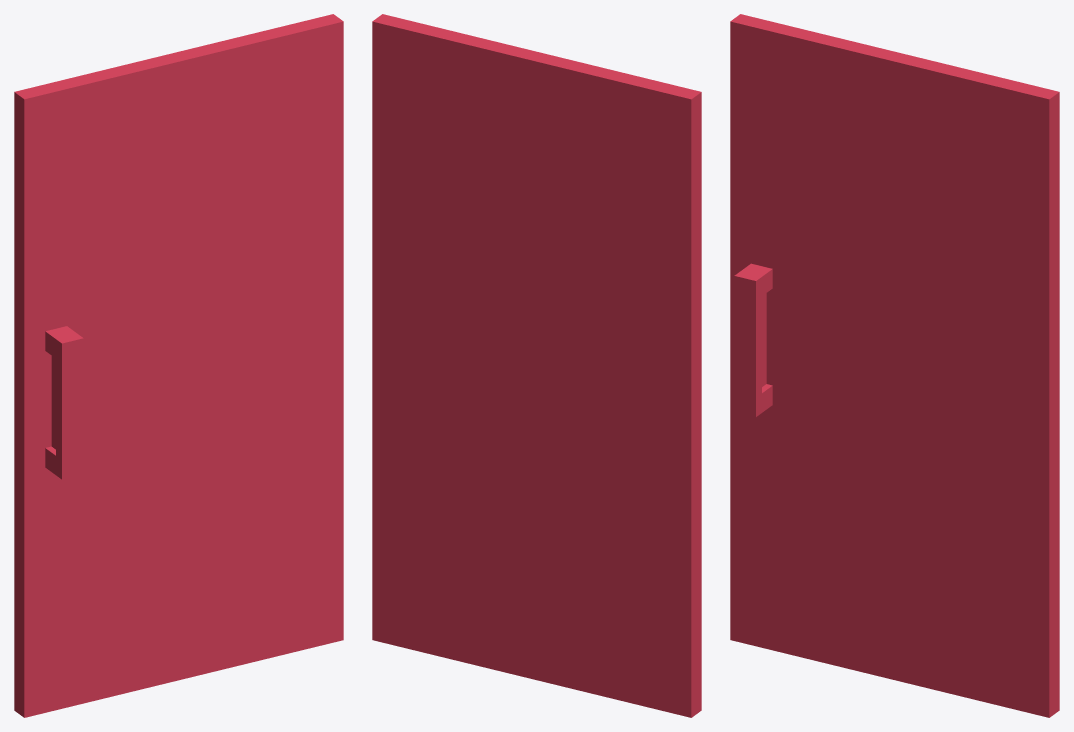
Rendered from Itr_Shelf1_Door_Right_04.FBX.
The picture shows the model from 3 angles, left to right: view 1: azimuth 30°, elevation 25°; view 2: azimuth 150°, elevation 25°; view 3: azimuth 330°, elevation 25°; orthographic projection.
Parts seen in each view (by area): view 1: Itr_Shelf1_Door_Right_04; view 2: Itr_Shelf1_Door_Right_04; view 3: Itr_Shelf1_Door_Right_04.
Boxes of the visible parts, x1=… form: Itr_Shelf1_Door_Right_04: x1=14, y1=14, x2=343, y2=717; Itr_Shelf1_Door_Right_04: x1=372, y1=14, x2=701, y2=717; Itr_Shelf1_Door_Right_04: x1=730, y1=14, x2=1059, y2=717.
Bounding box in the file's own units: 22.1 × 40.92 × 3.23.
